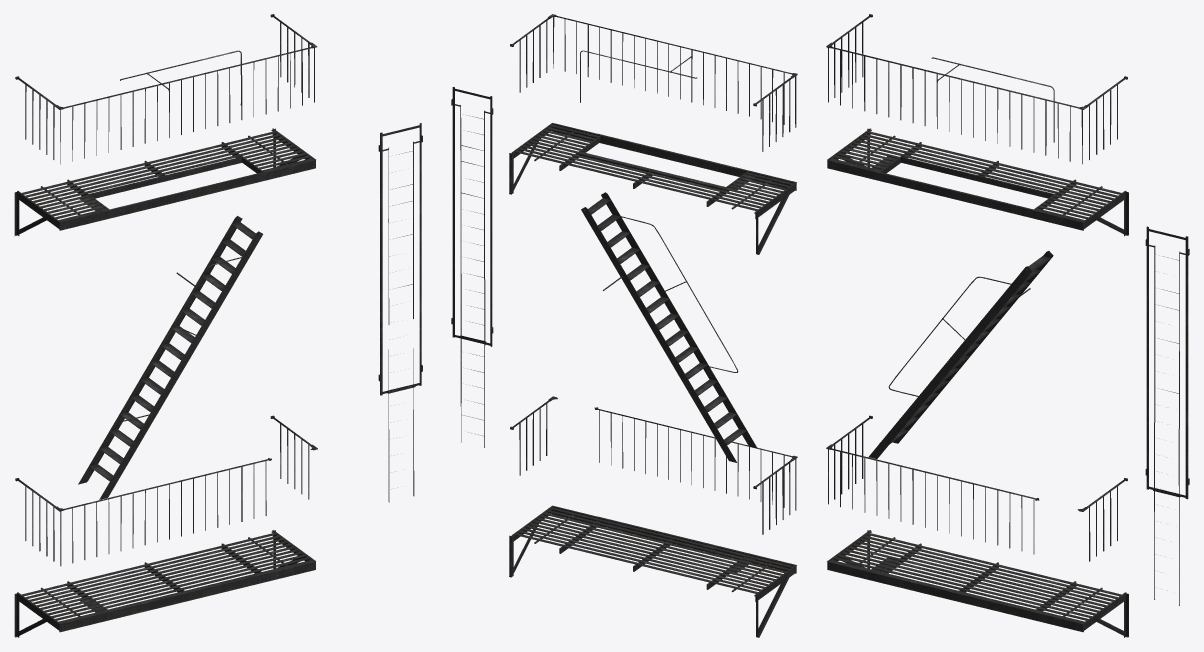
Rendered from modular_fire_escape.glb.
The picture shows the model from 3 angles, left to right: view 1: azimuth 30°, elevation 25°; view 2: azimuth 150°, elevation 25°; view 3: azimuth 330°, elevation 25°; orthographic projection. The views are drawn at different scales.
Parts seen in each view (by area): view 1: modular_fire_escape_platform_bottom, modular_fire_escape_platform_middle, modular_fire_escape_stairs, modular_fire_escape_railing_middle, modular_fire_escape_railing_bottom, modular_fire_escape_ladder_bottom; view 2: modular_fire_escape_platform_bottom, modular_fire_escape_platform_middle, modular_fire_escape_stairs, modular_fire_escape_railing_middle, modular_fire_escape_ladder_bottom, modular_fire_escape_railing_bottom; view 3: modular_fire_escape_platform_bottom, modular_fire_escape_platform_middle, modular_fire_escape_stairs, modular_fire_escape_railing_middle, modular_fire_escape_railing_bottom, modular_fire_escape_ladder_bottom.
Part boxes in pixels (<box>): modular_fire_escape_platform_bottom: <box>14,530,315,637</box>; modular_fire_escape_platform_middle: <box>14,128,315,236</box>; modular_fire_escape_stairs: <box>78,216,263,499</box>; modular_fire_escape_railing_middle: <box>15,14,317,164</box>; modular_fire_escape_railing_bottom: <box>15,415,317,566</box>; modular_fire_escape_ladder_bottom: <box>378,123,422,502</box>; modular_fire_escape_platform_bottom: <box>509,505,796,637</box>; modular_fire_escape_platform_middle: <box>509,123,796,254</box>; modular_fire_escape_stairs: <box>581,192,757,462</box>; modular_fire_escape_railing_middle: <box>510,14,797,151</box>; modular_fire_escape_ladder_bottom: <box>451,87,493,447</box>; modular_fire_escape_railing_bottom: <box>510,396,797,534</box>; modular_fire_escape_platform_bottom: <box>827,530,1128,637</box>; modular_fire_escape_platform_middle: <box>827,128,1128,236</box>; modular_fire_escape_stairs: <box>868,251,1053,458</box>; modular_fire_escape_railing_middle: <box>826,14,1127,164</box>; modular_fire_escape_railing_bottom: <box>826,415,1127,561</box>; modular_fire_escape_ladder_bottom: <box>1145,226,1189,605</box>.
Bounding box in the file's own units: 6.66 × 9.76 × 1.42.
3 materials, 3 textured.
